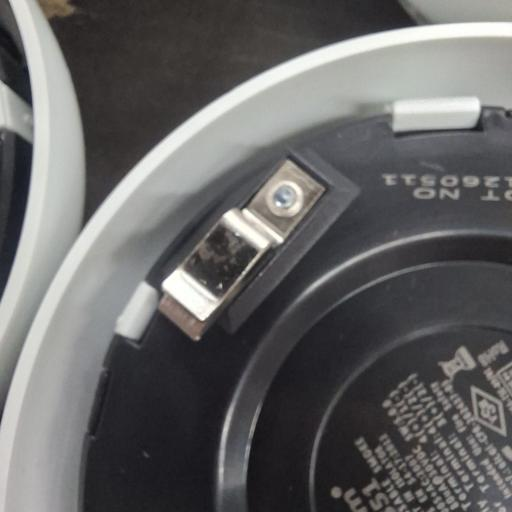yayli: (157, 154, 330, 340)
